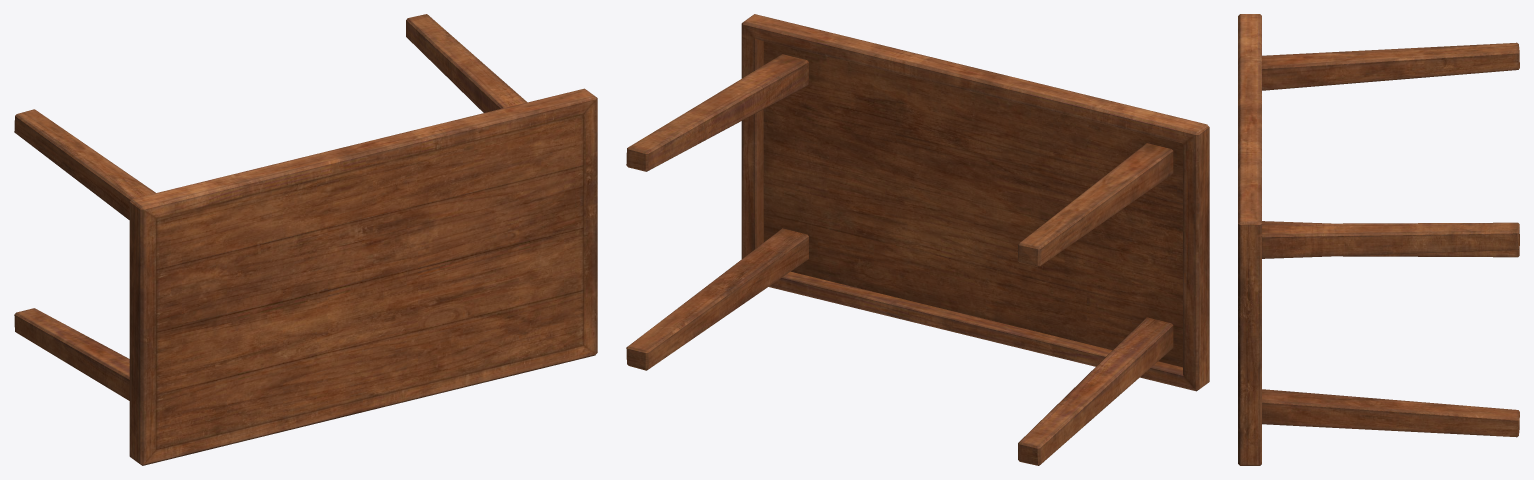
File: wooden_table_02.obj
The picture shows the model from 3 angles, left to right: view 1: azimuth 30°, elevation 25°; view 2: azimuth 150°, elevation 25°; view 3: azimuth 270°, elevation 25°; orthographic projection. The views are drawn at different scales.
Size of the model in its own units: 1.2 by 0.65 by 0.68.
1 material, 1 textured.
